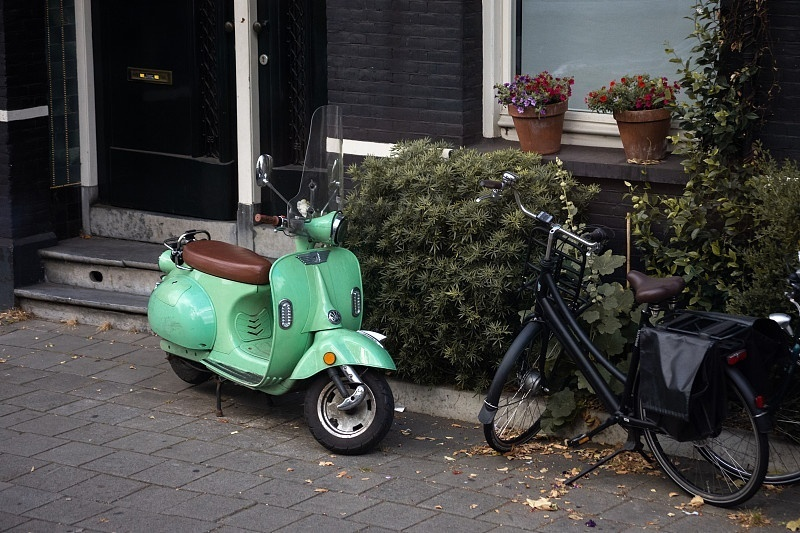non-vehicle: (477, 207, 800, 501), (149, 171, 400, 456)
